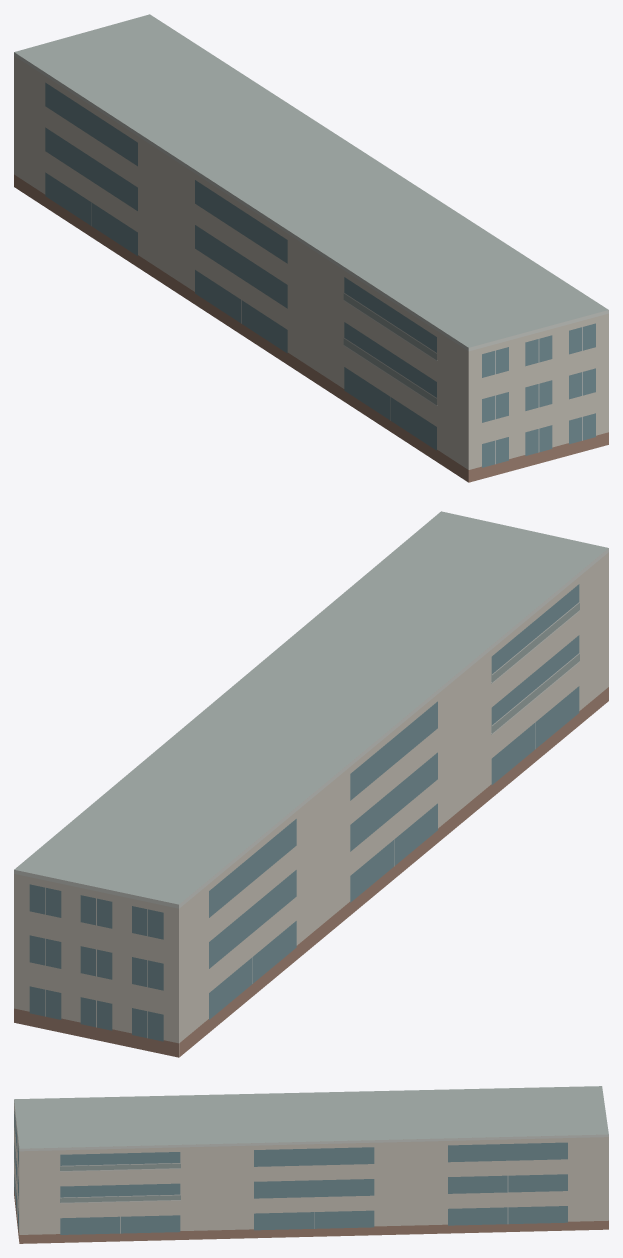
File: survey-upis-32933061.glb
3 renders of one model, top to bottom at view 1: azimuth 30°, elevation 25°; view 2: azimuth 150°, elevation 25°; view 3: azimuth 270°, elevation 25°, orthographic. The views are drawn at different scales.
Visible parts, largest first — view 1: survey-upis-32933061.tmp; view 2: survey-upis-32933061.tmp; view 3: survey-upis-32933061.tmp.
Boxes of the visible parts, left/top/right/bottom form: survey-upis-32933061.tmp: left=14, top=14, right=608, bottom=482; survey-upis-32933061.tmp: left=14, top=511, right=608, bottom=1057; survey-upis-32933061.tmp: left=14, top=1086, right=608, bottom=1243.
Bounding box in the file's own units: 12.94 × 9.15 × 51.86.
